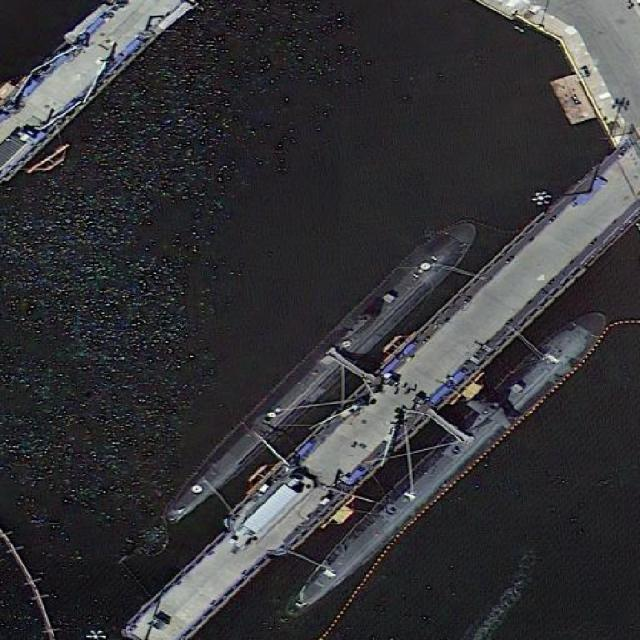Submarine: (147, 206, 491, 537), (282, 296, 619, 622)
